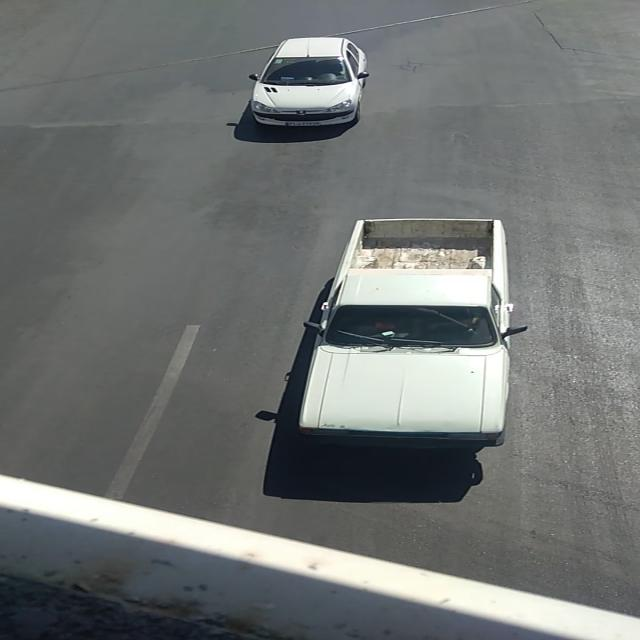car: (297, 216, 519, 446), (247, 37, 371, 130)
